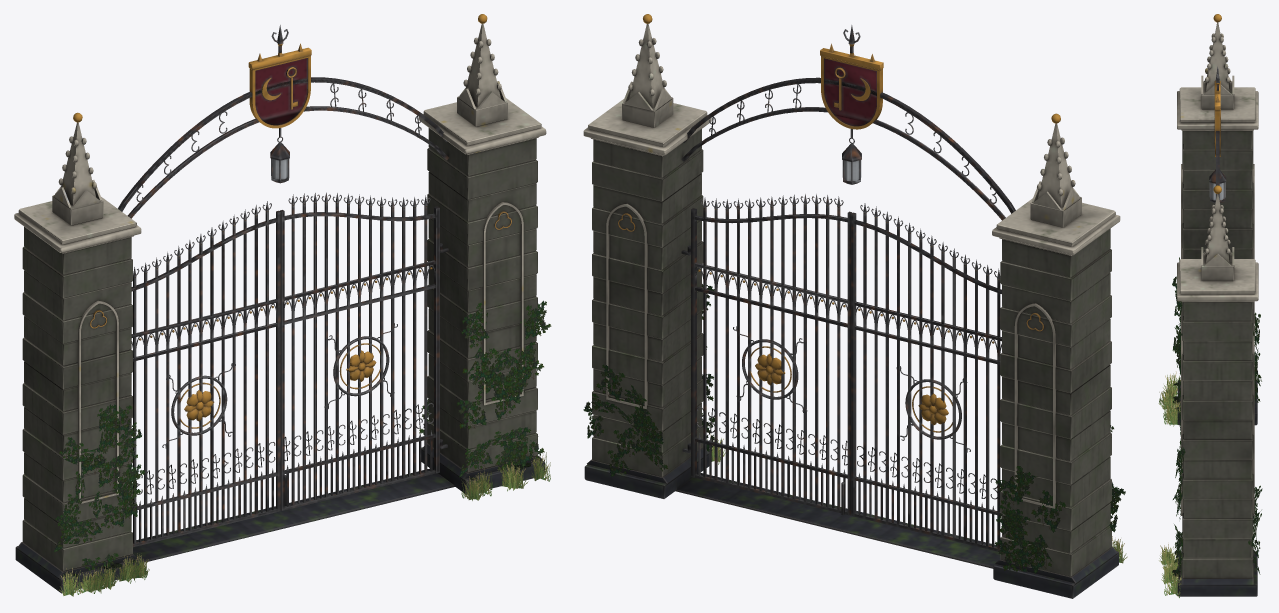
File: GateGrand.fbx
The picture shows the model from 3 angles, left to right: view 1: azimuth 30°, elevation 25°; view 2: azimuth 150°, elevation 25°; view 3: azimuth 270°, elevation 25°; orthographic projection. The views are drawn at different scales.
Visible parts, largest first — view 1: GateGrand_Main, GateGrand_Leaf1, GateGrand_Leaf0, GateGrand_Leaves; view 2: GateGrand_Main, GateGrand_Leaf1, GateGrand_Leaf0, GateGrand_Leaves; view 3: GateGrand_Main, GateGrand_Leaves, GateGrand_Glass.
Part boxes in pixels (bbox=[...]): GateGrand_Main: bbox=[14, 14, 546, 593]; GateGrand_Leaf1: bbox=[280, 192, 442, 510]; GateGrand_Leaf0: bbox=[131, 201, 280, 547]; GateGrand_Leaves: bbox=[54, 300, 551, 596]; GateGrand_Main: bbox=[583, 14, 1120, 598]; GateGrand_Leaf1: bbox=[687, 194, 852, 515]; GateGrand_Leaf0: bbox=[851, 203, 1001, 551]; GateGrand_Leaves: bbox=[583, 284, 1127, 573]; GateGrand_Main: bbox=[1172, 14, 1258, 596]; GateGrand_Leaves: bbox=[1158, 257, 1262, 597]; GateGrand_Glass: bbox=[1209, 182, 1225, 200].
Bounding box in the file's own units: 1974 × 1867 × 423.
